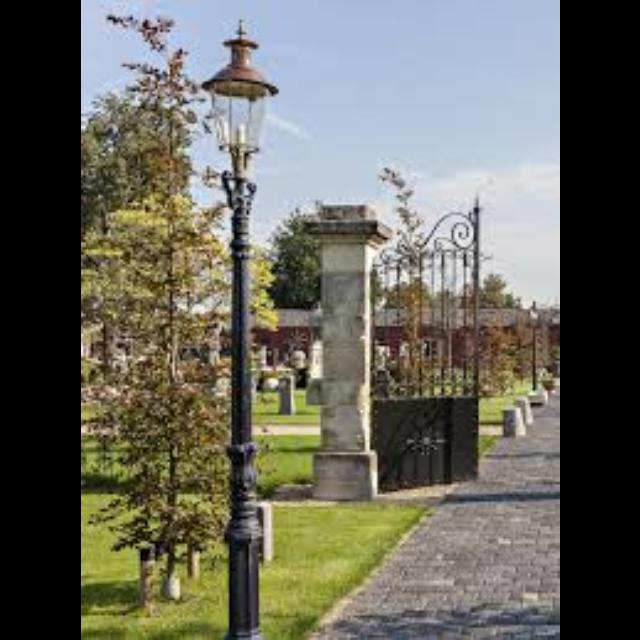Street-Lamp: (190, 2, 280, 640)
